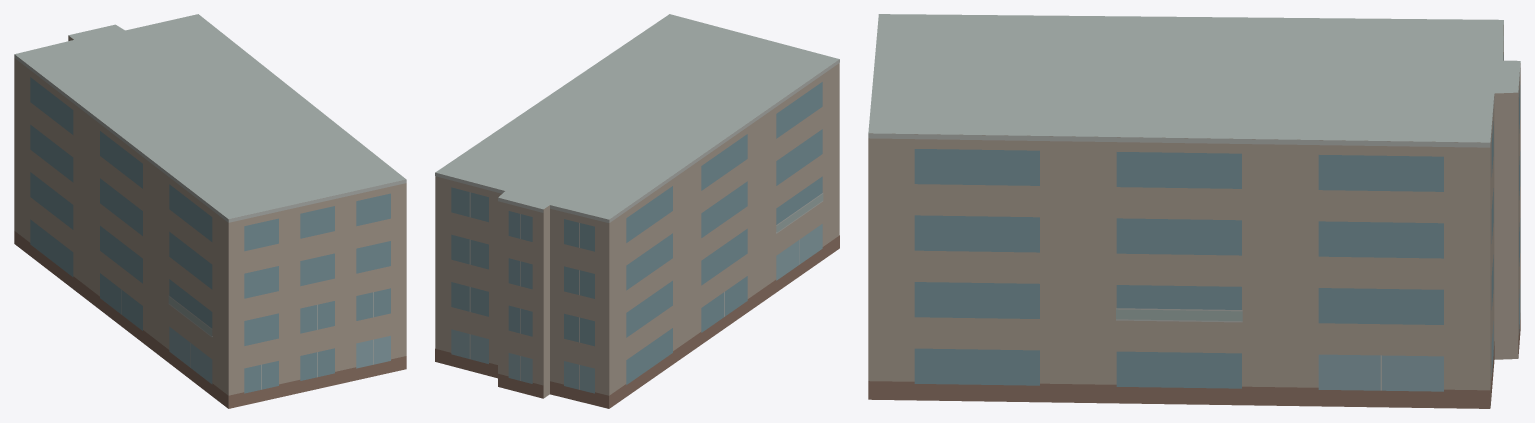
File: survey-upis-32636756.glb
3 renders of one model, left to right at view 1: azimuth 30°, elevation 25°; view 2: azimuth 150°, elevation 25°; view 3: azimuth 270°, elevation 25°, orthographic. The views are drawn at different scales.
Visible parts, largest first — view 1: survey-upis-32636756.tmp; view 2: survey-upis-32636756.tmp; view 3: survey-upis-32636756.tmp.
Boxes of the visible parts, x1,y1,x2,y2 form: survey-upis-32636756.tmp: (14, 14, 406, 408); survey-upis-32636756.tmp: (435, 14, 839, 408); survey-upis-32636756.tmp: (868, 14, 1520, 408).
Size of the model in its own units: 13.27 by 12.8 by 28.43.
